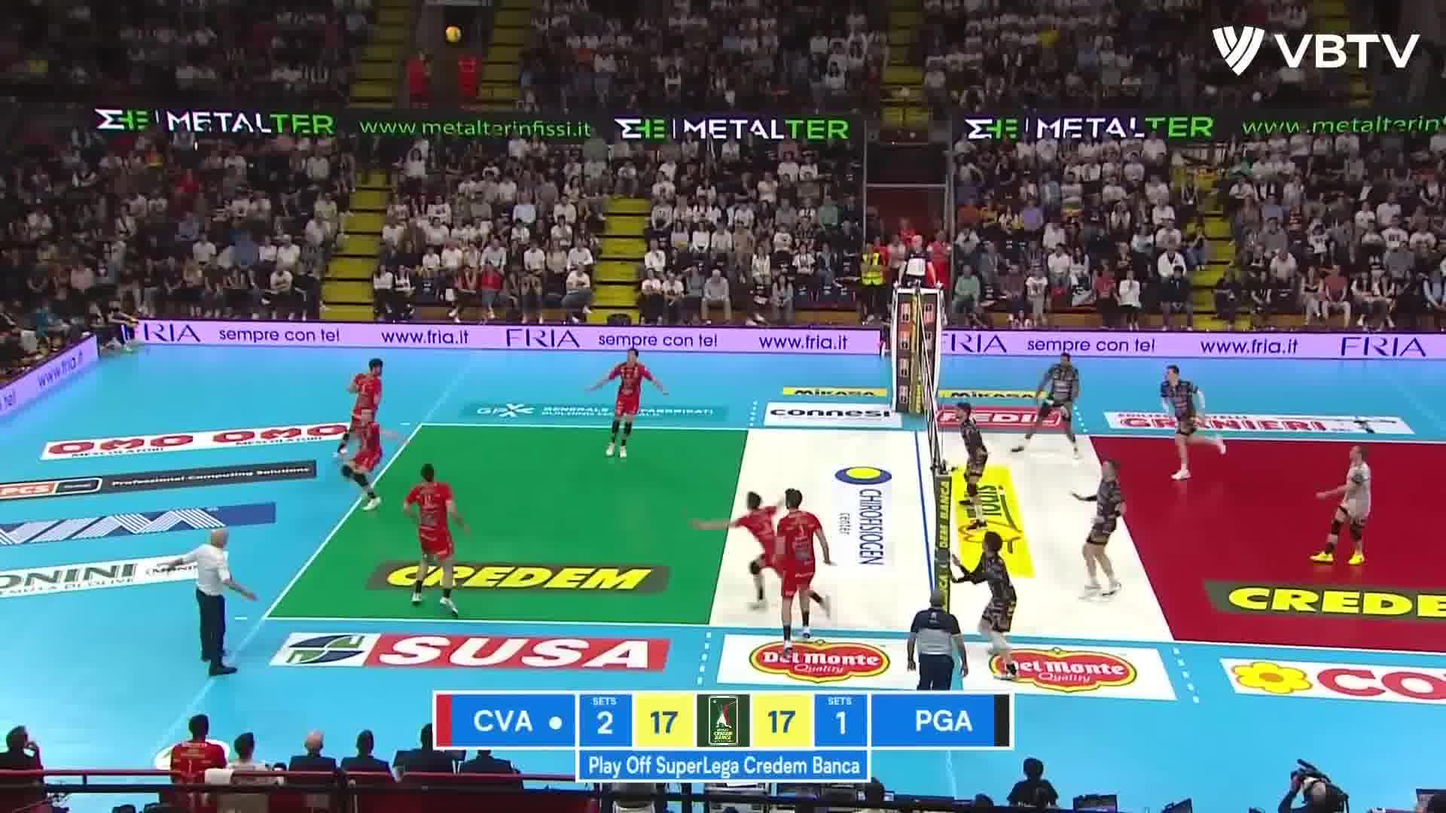balls: (442, 23, 465, 45)
